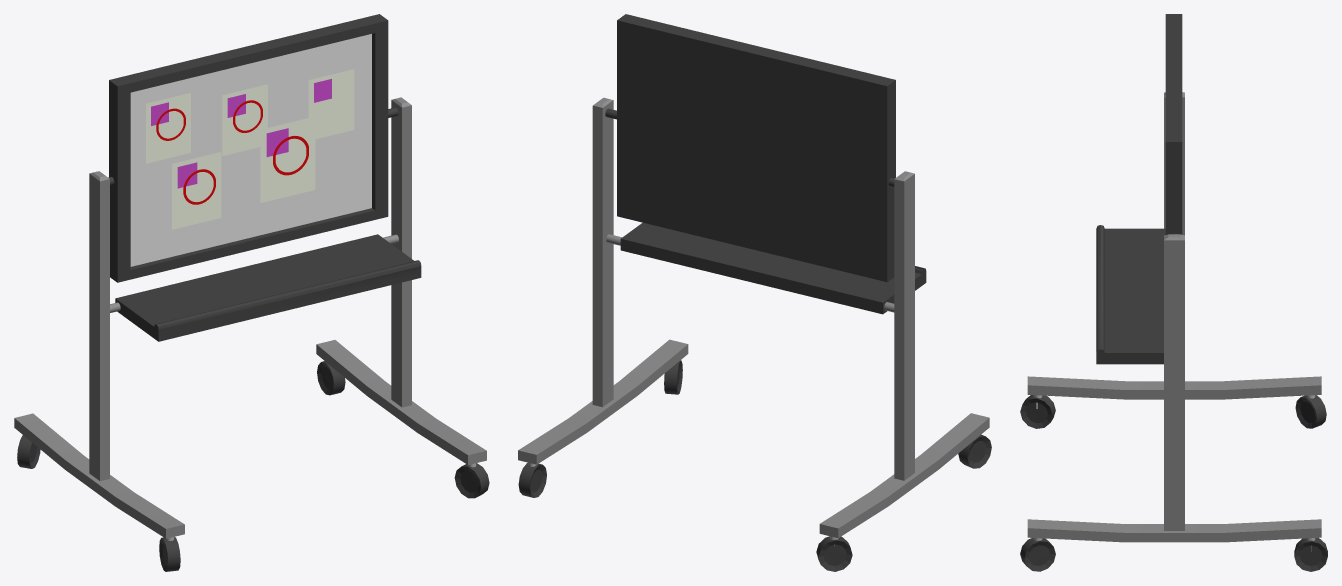
The model's file is whiteBoard_Ver2.fbx.
The picture shows the model from 3 angles, left to right: view 1: azimuth 30°, elevation 25°; view 2: azimuth 150°, elevation 25°; view 3: azimuth 270°, elevation 25°; orthographic projection. The views are drawn at different scales.
Parts seen in each view (by area): view 1: board, body, Plane.002, Plane.006, Plane.008, Circle.002, Plane; view 2: board, body; view 3: body, board.
Boxes of the visible parts, x1,y1,x2,y2 form: board: [108, 14, 398, 282]; body: [14, 97, 489, 571]; Plane.002: [172, 152, 221, 229]; Plane.006: [260, 118, 315, 203]; Plane.008: [308, 69, 354, 140]; Circle.002: [146, 92, 190, 163]; Plane: [222, 84, 267, 155]; board: [605, 14, 895, 282]; body: [518, 97, 991, 571]; body: [1020, 92, 1327, 571]; board: [1165, 14, 1182, 234].
Size of the model in its own units: 87.3 by 110 by 73.27.
